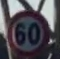limite 60: (4, 4, 52, 58)
